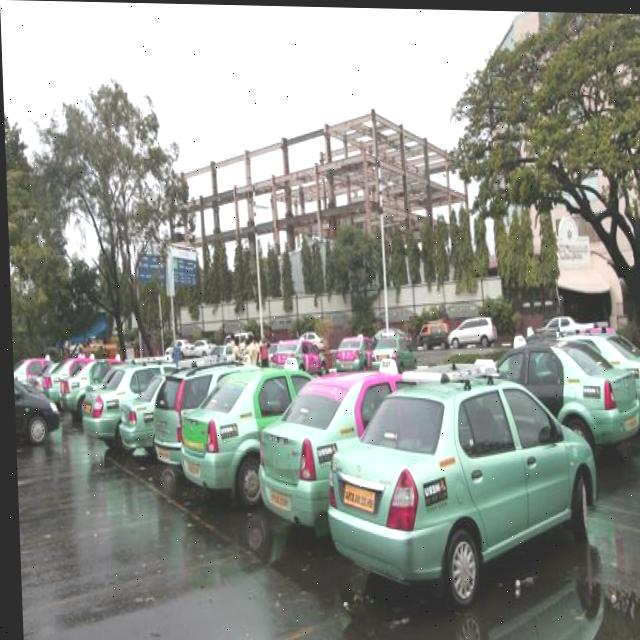plate: (336, 477, 374, 512), (264, 486, 290, 510), (621, 411, 637, 431)
